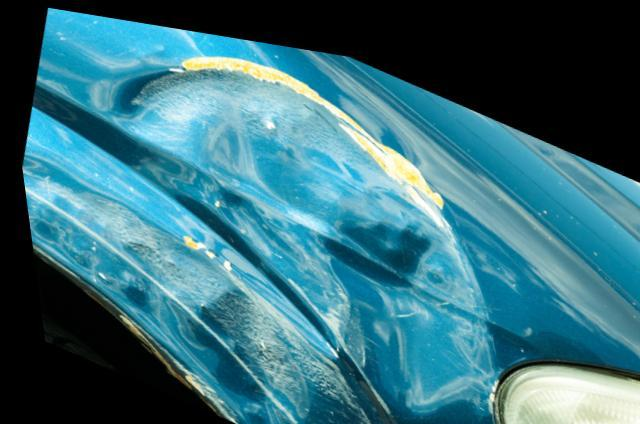dent: (108, 51, 486, 397), (18, 157, 299, 424)
scratch: (234, 278, 370, 424)
